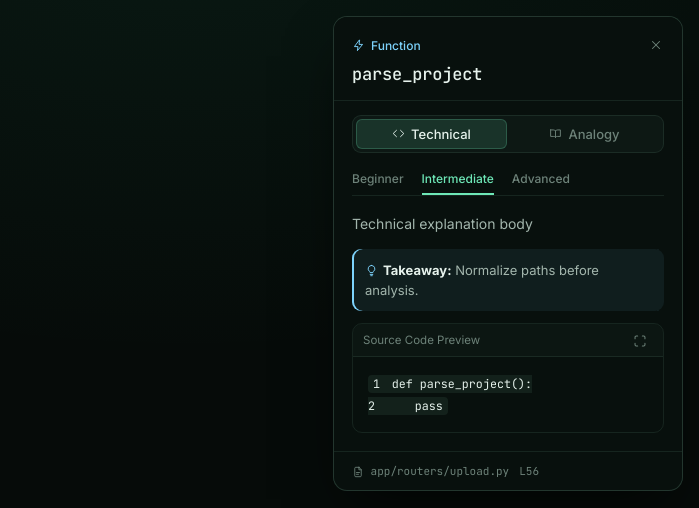
ExplanationPanel › renders analogy content on the Analogy tab, not technical copy
expect the text "Technical explanation body" is shown: met, box [352,215,533,232]
Click the tab "Analogy": (584, 134) [509,119,660,149]
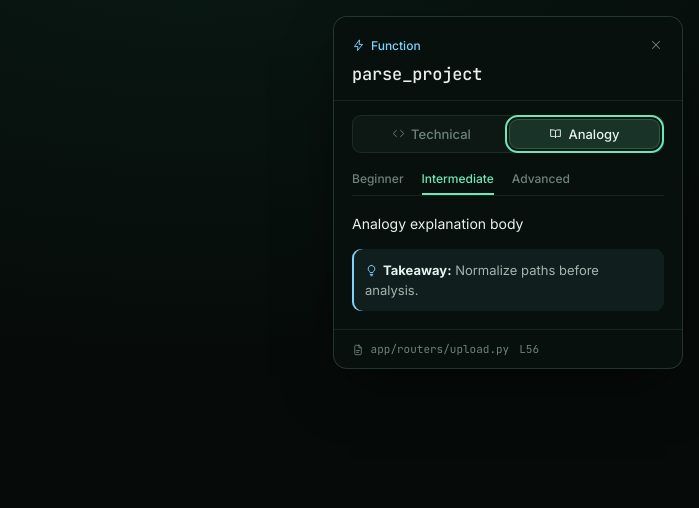
expect the text "Analogy explanation body" is shown: met, box [352,215,524,232]
expect the text "Technical explanation body" is gone: met
